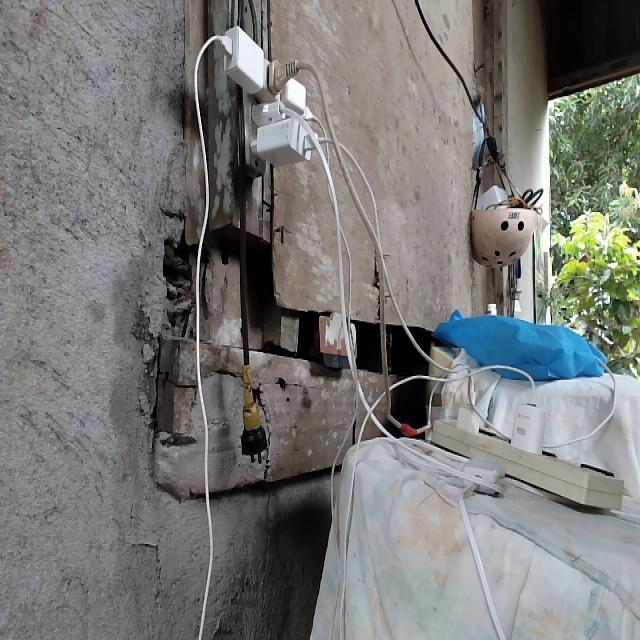-: (208, 20, 328, 176)
